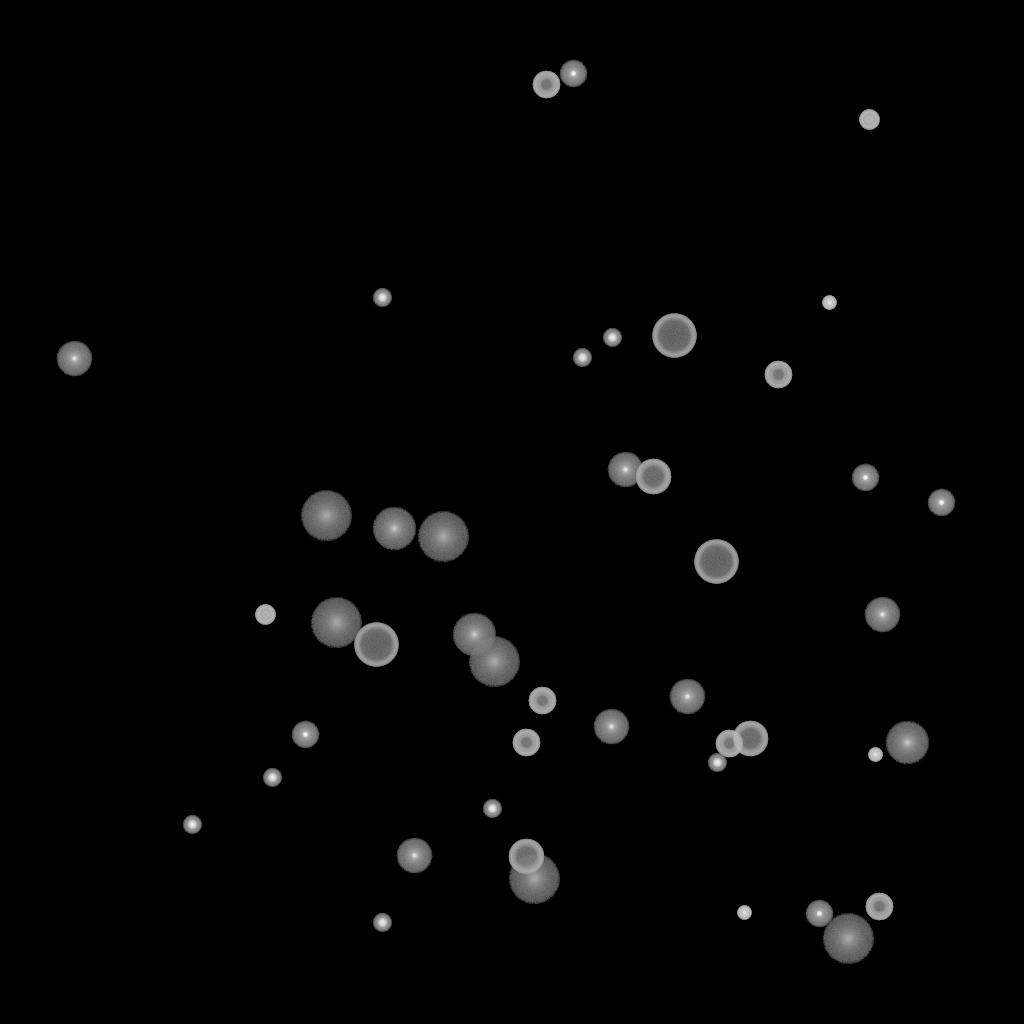depth:-10: (851, 464, 879, 492), (805, 900, 833, 928), (559, 60, 587, 88), (291, 721, 319, 749), (927, 489, 955, 517)
depth:-20: (573, 349, 591, 367), (373, 914, 391, 932), (373, 289, 391, 307), (183, 816, 201, 834), (603, 329, 621, 347), (263, 769, 281, 787), (708, 754, 726, 772), (483, 800, 501, 818)
depth:-30: (822, 296, 836, 310), (868, 748, 882, 762), (737, 906, 751, 920)
depth:-40: (255, 605, 275, 625), (859, 110, 879, 130)
depth:-50: (528, 687, 556, 715), (764, 361, 792, 389), (715, 730, 743, 758), (865, 893, 893, 921), (512, 729, 540, 757), (532, 71, 560, 99)
depth:-60: (508, 839, 544, 875), (732, 721, 768, 757), (635, 459, 671, 495)
depth:-70: (652, 314, 696, 358), (694, 540, 738, 584), (354, 623, 398, 667)
depth:0: (669, 679, 705, 715), (864, 597, 900, 633), (593, 709, 629, 745), (607, 452, 643, 488), (396, 838, 432, 874), (56, 341, 92, 377)
depth:10: (885, 721, 929, 765), (452, 613, 496, 657), (372, 507, 416, 551)
depth:20: (417, 512, 469, 562), (468, 637, 520, 687), (300, 491, 352, 541), (310, 598, 362, 648), (508, 854, 560, 904), (822, 914, 874, 964)
